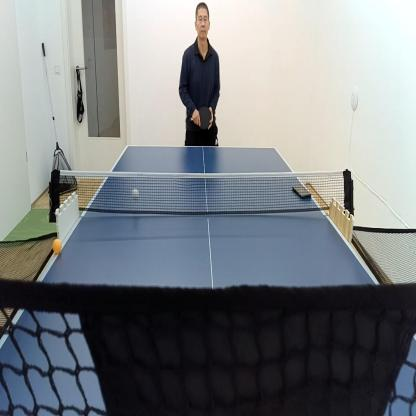Ball: (52, 237, 63, 256), (131, 186, 141, 203)
